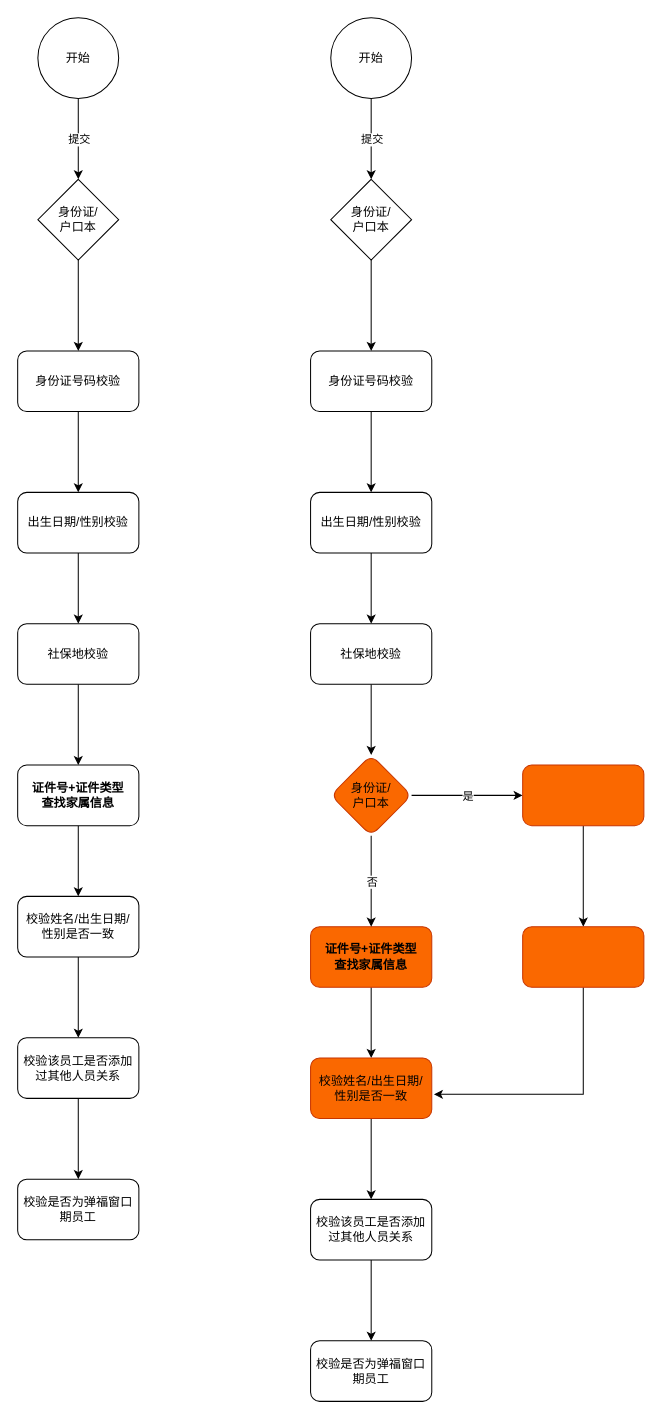
Some shapes in this 662 by 1419 pixel diagram are drawn without their labels. The shapes that lost their labels are listed below. From the top down, each one's centre as x and y in pixels, then its label:
At (583,795): "证件号 查找家属信息".
At (583,956): "校验证件类型是否一致".
